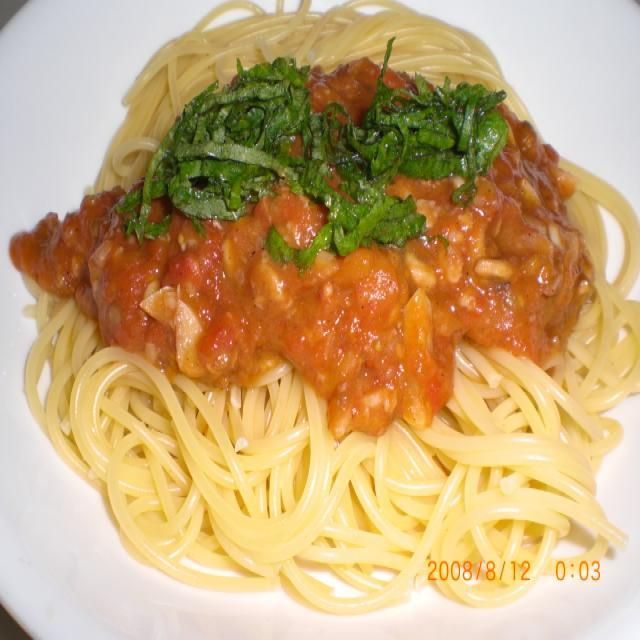Pasta: (39, 0, 621, 587)
